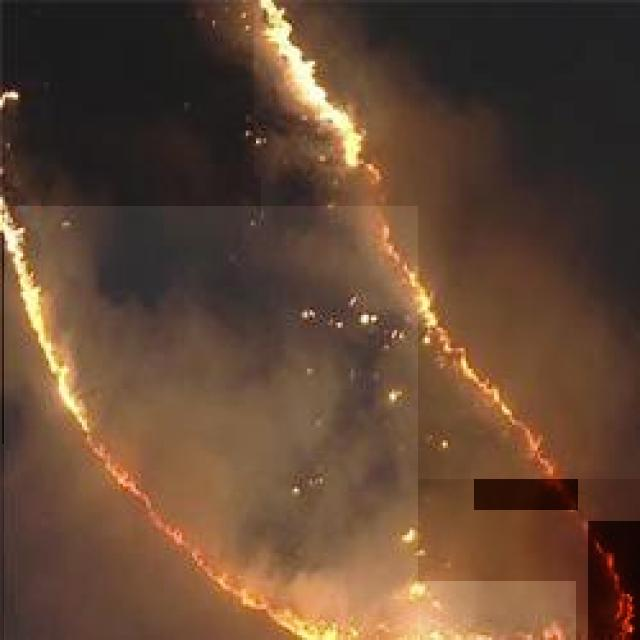Fire: (2, 212, 98, 444), (254, 4, 378, 177), (109, 454, 224, 588), (379, 228, 468, 391), (474, 386, 578, 510), (382, 581, 576, 640), (588, 521, 640, 640), (244, 591, 345, 640)
Smoke: (261, 0, 640, 479), (4, 206, 418, 640)
